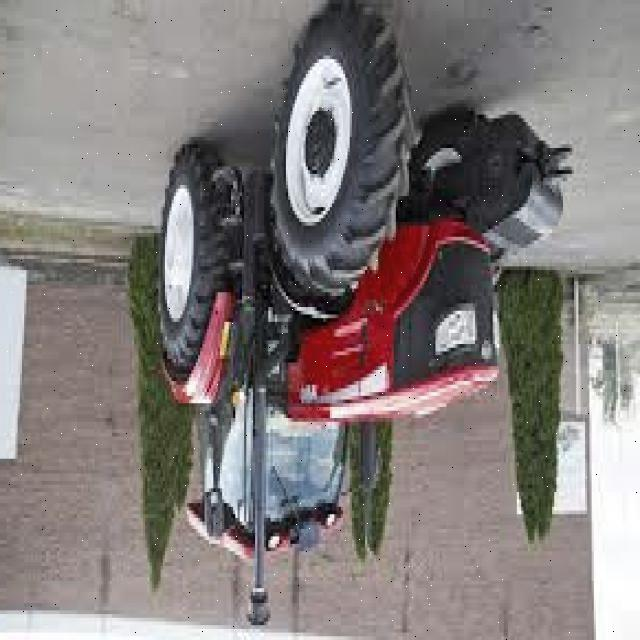Tratores - v5 YOLO V8L 2024-11-13: (149, 0, 566, 624)
